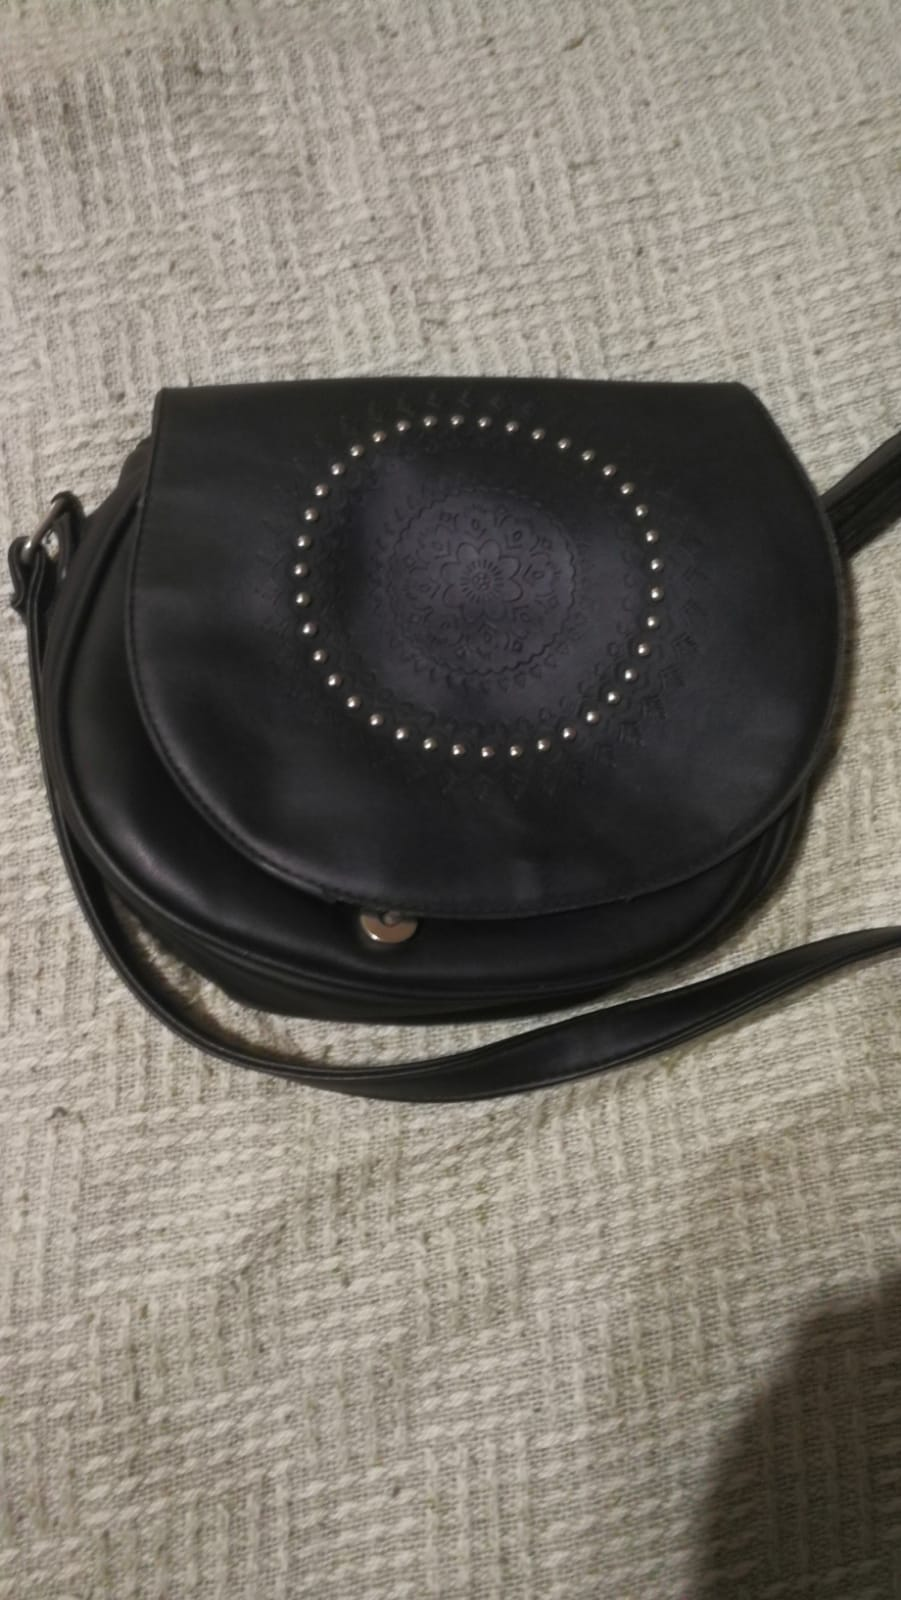cartera: (21, 349, 891, 1105)
cuero: (368, 527, 523, 645)
